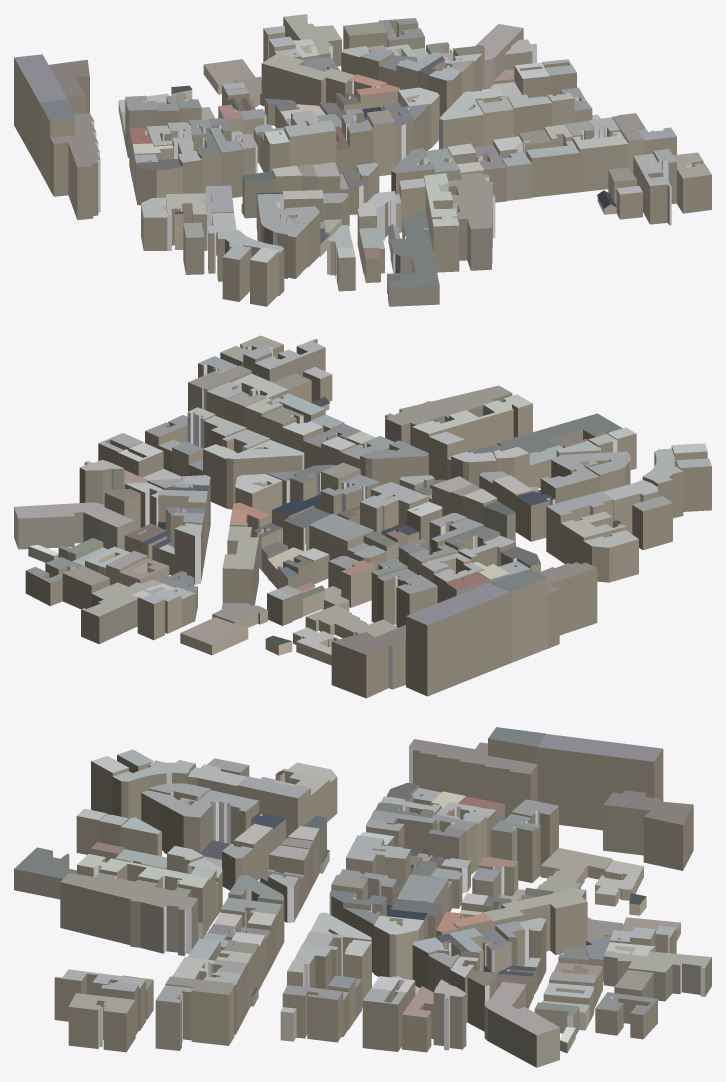
3 views of the same model, one above another, from view 1: azimuth 30°, elevation 25°; view 2: azimuth 150°, elevation 25°; view 3: azimuth 270°, elevation 25° (orthographic). The views are drawn at different scales.
Parts seen in each view (by area): view 1: tuile; view 2: tuile; view 3: tuile.
Boxes of the visible parts, x1,y1,x2,y2 form: tuile: (14, 14, 711, 306); tuile: (14, 335, 711, 698); tuile: (14, 727, 711, 1067).
Size of the model in its own units: 278 by 38.77 by 303.
